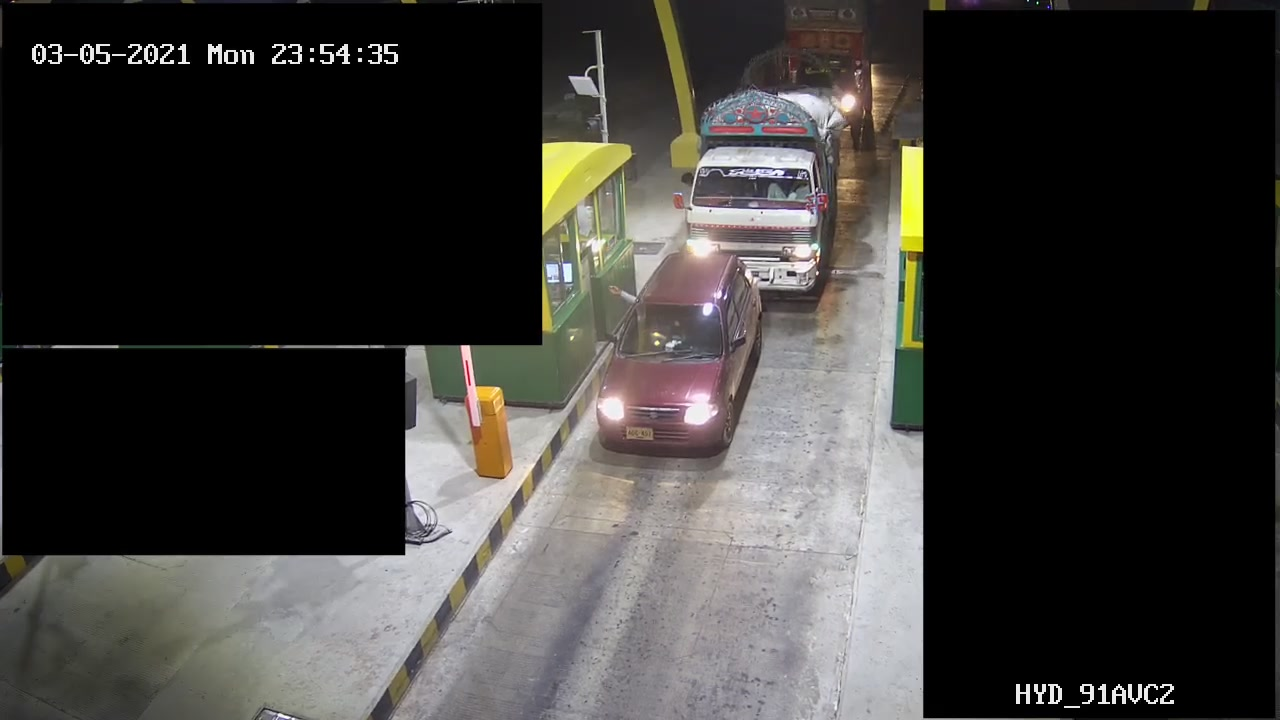F1: (594, 250, 768, 463)
